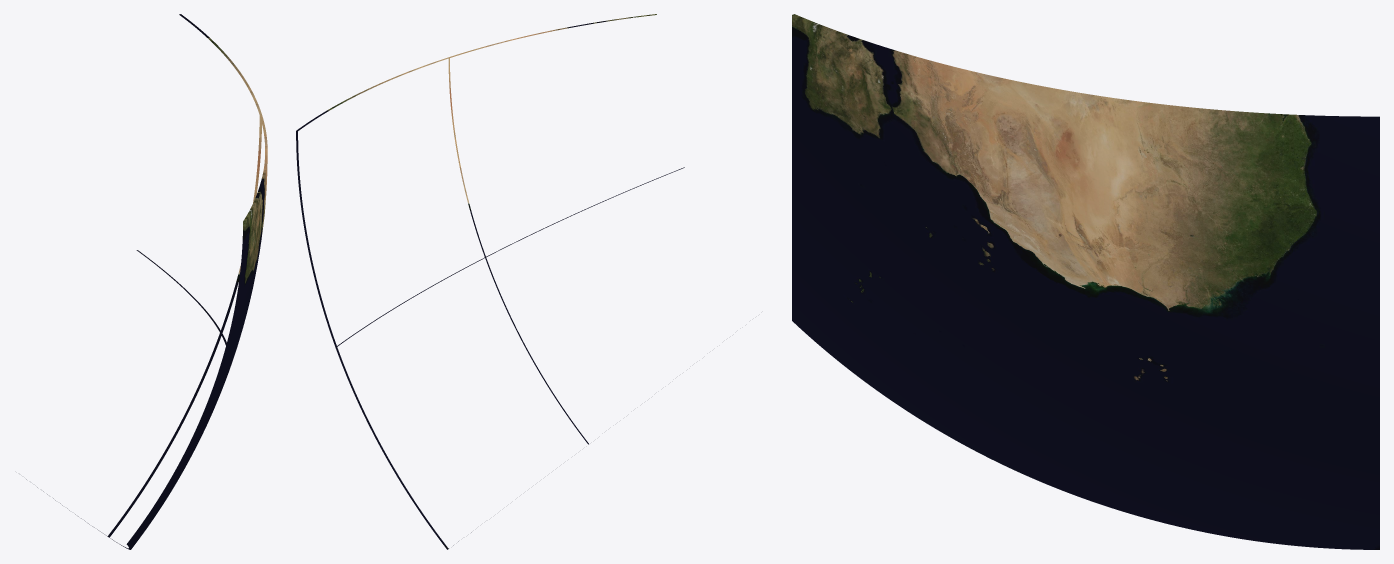
3 views of the same model, side by side, from view 1: azimuth 30°, elevation 25°; view 2: azimuth 150°, elevation 25°; view 3: azimuth 270°, elevation 25° (orthographic). The views are drawn at different scales.
Parts seen in each view (by area): view 1: DefaultName.009, DefaultName.012, DefaultName.003, DefaultName.006; view 2: DefaultName.006, DefaultName.003, DefaultName.009, DefaultName.012; view 3: DefaultName.006, DefaultName.009, DefaultName.003, DefaultName.012.
Part boxes in pixels (<box>): DefaultName.009: <box>213,115,267,388</box>; DefaultName.012: <box>109,332,227,549</box>; DefaultName.003: <box>26,250,221,537</box>; DefaultName.006: <box>179,14,261,333</box>; DefaultName.006: <box>296,57,449,347</box>; DefaultName.003: <box>335,257,485,549</box>; DefaultName.009: <box>448,14,656,257</box>; DefaultName.012: <box>485,167,684,444</box>; DefaultName.006: <box>1062,90,1379,380</box>; DefaultName.009: <box>792,14,1062,333</box>; DefaultName.003: <box>1062,334,1379,549</box>; DefaultName.012: <box>792,201,1061,490</box>.
Size of the model in its own units: 31962 by 45100 by 44874.
4 materials, 4 textured.
